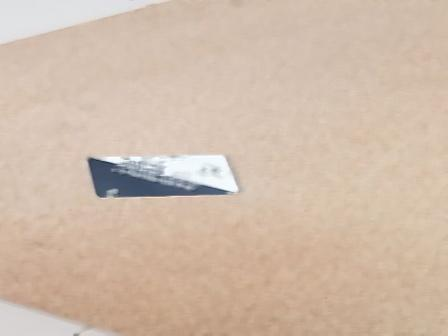corrosive: (79, 154, 247, 202)
